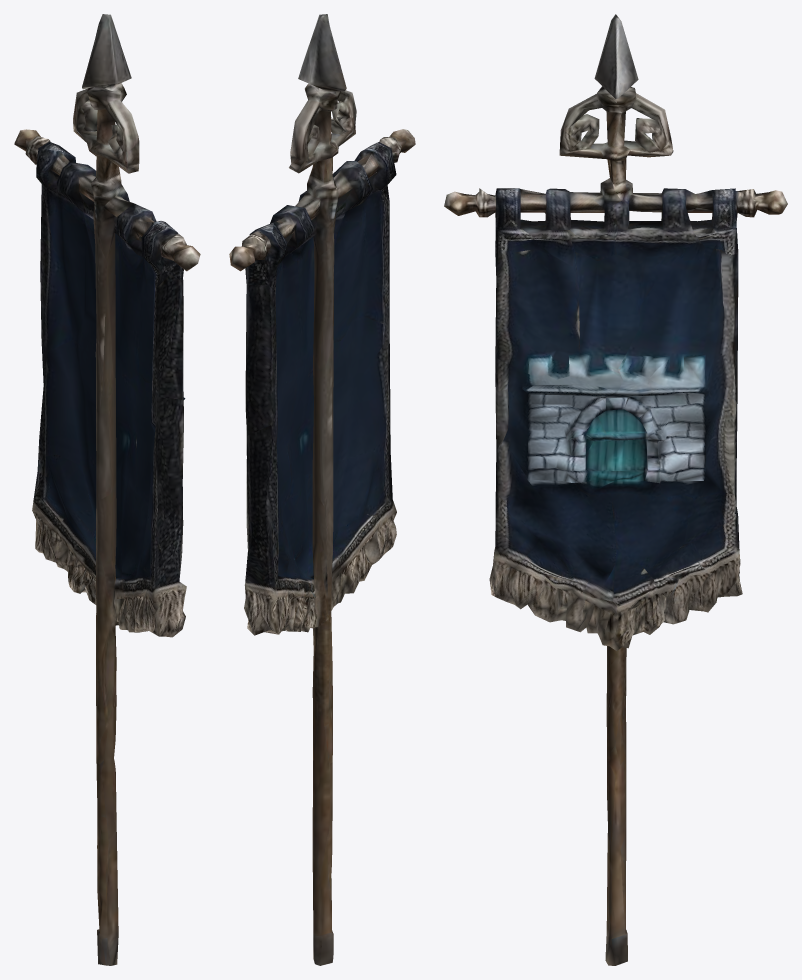
File: banner.glb
3 views of the same model, side by side, from view 1: azimuth 30°, elevation 25°; view 2: azimuth 150°, elevation 25°; view 3: azimuth 270°, elevation 25° (orthographic).
Visible parts, largest first — view 1: tripo_node_56d99b3f-be4c-4171-b7fa-0ade6fb7f629; view 2: tripo_node_56d99b3f-be4c-4171-b7fa-0ade6fb7f629; view 3: tripo_node_56d99b3f-be4c-4171-b7fa-0ade6fb7f629.
Boxes of the visible parts, bbox=[...] form: tripo_node_56d99b3f-be4c-4171-b7fa-0ade6fb7f629: bbox=[14, 14, 200, 965]; tripo_node_56d99b3f-be4c-4171-b7fa-0ade6fb7f629: bbox=[229, 14, 415, 965]; tripo_node_56d99b3f-be4c-4171-b7fa-0ade6fb7f629: bbox=[444, 14, 787, 965].
Bounding box in the file's own units: 0.0638 × 0.9715 × 0.32.
Materials: 1 (1 with a texture image).
